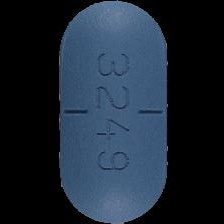0591-3249: (0, 0, 224, 224)
